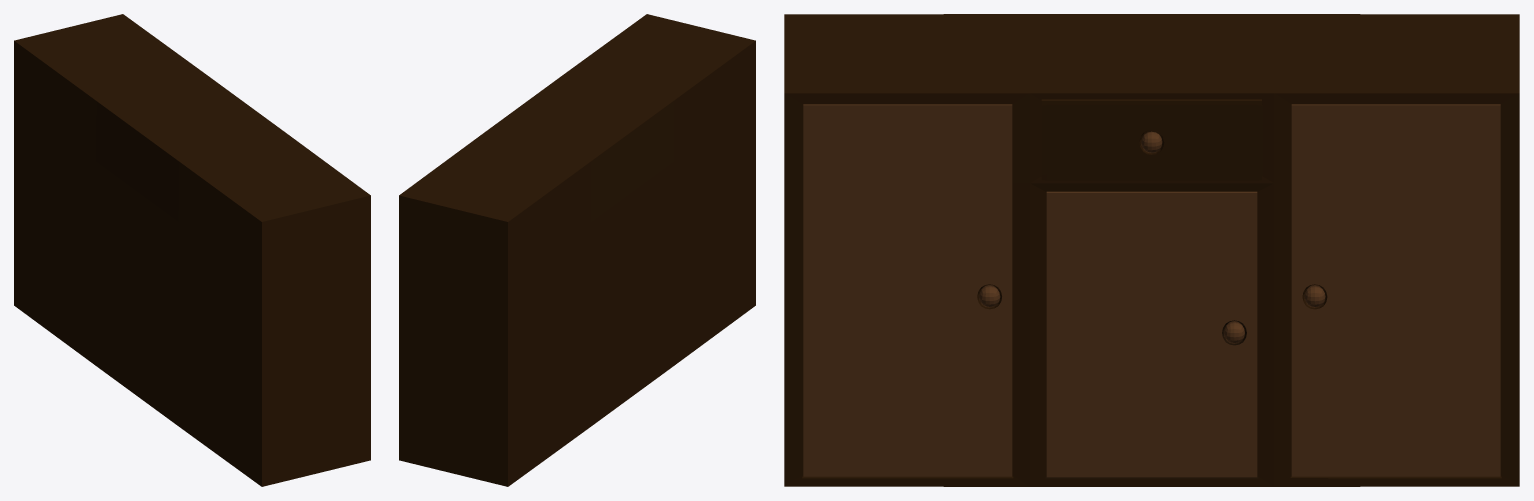
Rendered from Cabinet_v006(Outlined(Basic).fbx.
3 renders of one model, left to right at view 1: azimuth 30°, elevation 25°; view 2: azimuth 150°, elevation 25°; view 3: azimuth 270°, elevation 25°, orthographic. The views are drawn at different scales.
Parts seen in each view (by area): view 1: Cabinet; view 2: Cabinet; view 3: Cabinet, Door_1, Door_3, Door_2, Drawer.
Boxes of the visible parts, x1=… form: Cabinet: x1=14, y1=14, x2=370, y2=486; Cabinet: x1=399, y1=14, x2=755, y2=486; Cabinet: x1=784, y1=14, x2=1519, y2=486; Door_1: x1=802, y1=104, x2=1013, y2=478; Door_3: x1=1290, y1=104, x2=1501, y2=478; Door_2: x1=1045, y1=191, x2=1258, y2=478; Drawer: x1=1041, y1=99, x2=1262, y2=180.
Bounding box in the file's own units: 230 × 473 × 801.
